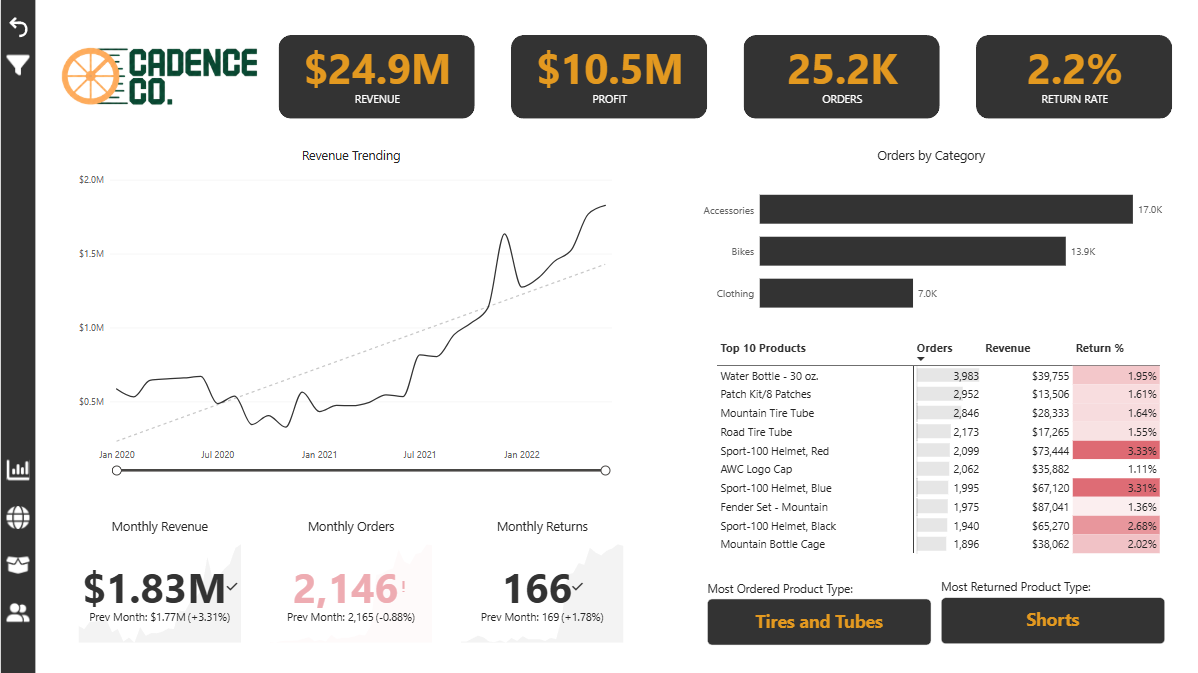

What the dashboard file says about the page in this screenshot:
{"tool":"powerbi","page":{"name":"Exec Dashboard","canvas":[1920,1080],"ordinal":0},"visuals":[{"type":"card","fields":{"Values":["Measure Table.Total Revenue"]},"box":[400,42,404,150],"z":0,"group":"g2"},{"type":"image","box":[85.1,52.5,336.6,143],"z":0},{"type":"group","id":"g1","title":"KPI Backgrounds","box":[444,56,1430,134],"z":0,"group":"g3"},{"type":"shape","box":[1188,56,314,134],"z":0,"group":"g1"},{"type":"actionButton","box":[0,723.9,54.3,56.1],"z":0,"group":"g4"},{"type":"shape","title":"Left Nav Background","box":[0,0,55,1080],"z":1000},{"type":"group","id":"g2","title":"KPI Values","box":[400,42,1520,150],"z":1000,"group":"g3"},{"type":"card","fields":{"Values":["Measure Table.Total Profit"]},"box":[772,42,404,150],"z":1000,"group":"g2"},{"type":"shape","box":[816,56,314,134],"z":1000,"group":"g1"},{"type":"actionButton","box":[0,799.9,54.3,56.1],"z":1000,"group":"g4"},{"type":"card","fields":{"Values":["Measure Table.Total Orders"]},"box":[1144,42,404,150],"z":2000,"group":"g2"},{"type":"shape","box":[1560,56,314,134],"z":2000,"group":"g1"},{"type":"actionButton","box":[0,76,54.3,56.1],"z":2000},{"type":"actionButton","box":[0,876,54.3,56.1],"z":2000,"group":"g4"},{"type":"group","id":"g3","title":"KPIs","box":[400,42,1520,150],"z":3000},{"type":"card","fields":{"Values":["Measure Table.Return Rate"]},"box":[1516,42,404,150],"z":3000,"group":"g2"},{"type":"shape","box":[444,56,314,134],"z":3000,"group":"g1"},{"type":"actionButton","box":[0,952,54,56],"z":3000,"group":"g4"},{"type":"lineChart","title":"Revenue Trending","fields":{"Category":["Calendar Lookup.Year","Calendar Lookup.Start of Quarter","Calendar Lookup.Start of Month"],"Y":["Measure Table.Total Revenue"]},"box":[108,220,904,554],"z":4000},{"type":"kpi","title":"Monthly Revenue","fields":{"Goal":["Measure Table.Previous Month Revenue"],"Indicator":["Measure Table.Total Revenue"],"TrendLine":["Calendar Lookup.Start of Month"]},"box":[108,814,292,230],"z":5000},{"type":"kpi","title":"Monthly Orders","fields":{"Goal":["Measure Table.Previous Month Orders"],"Indicator":["Measure Table.Total Orders"],"TrendLine":["Calendar Lookup.Start of Month"]},"box":[414,814,292,230],"z":6000},{"type":"kpi","title":"Monthly Returns","fields":{"Goal":["Measure Table.Previous Month Returns"],"Indicator":["Measure Table.Total Returns"],"TrendLine":["Calendar Lookup.Start of Month"]},"box":[720,814,292,230],"z":7000},{"type":"clusteredBarChart","title":"Orders by Category","fields":{"Category":["Product Categories Lookup.CategoryName"],"Y":["Measure Table.Total Orders"]},"box":[1102,220,772,318],"z":8000},{"type":"pivotTable","fields":{"Rows":["Product Lookup.ProductName"],"Values":["Measure Table.Total Orders","Measure Table.Total Revenue","Measure Table.Return Rate"]},"box":[1130,526,744,380],"z":9000},{"type":"card","fields":{"Values":["Min(Product Subcategories Lookup.SubcategoryName)"]},"box":[1130,958,358,74],"z":10000},{"type":"textbox","box":[1130,928.3,326.7,46.7],"z":11000},{"type":"card","fields":{"Values":["Min(Product Subcategories Lookup.SubcategoryName)"]},"box":[1504,956,358,74],"z":12000},{"type":"textbox","box":[1504,926.3,326.7,46.7],"z":13000},{"type":"actionButton","box":[0,22,56,40],"z":14000},{"type":"group","id":"g4","title":"Navigation Buttons","box":[0,723.9,54.3,284.1],"z":15000}]}

Visuals, with their boxes on the page's 1920x1080 design canvas (x1, y1, x2, y2). These are canvas units, not pixel positions in the 1198x673 screenshot, which may show the page scaled, cropped or inside an application window:
card - Measure Table.Total Revenue: left=400, top=42, right=804, bottom=192
image: left=85, top=52, right=422, bottom=196
"KPI Backgrounds" group: left=444, top=56, right=1874, bottom=190
shape: left=1188, top=56, right=1502, bottom=190
actionButton: left=0, top=724, right=54, bottom=780
"Left Nav Background" shape: left=0, top=0, right=55, bottom=1080
"KPI Values" group: left=400, top=42, right=1920, bottom=192
card - Measure Table.Total Profit: left=772, top=42, right=1176, bottom=192
shape: left=816, top=56, right=1130, bottom=190
actionButton: left=0, top=800, right=54, bottom=856
card - Measure Table.Total Orders: left=1144, top=42, right=1548, bottom=192
shape: left=1560, top=56, right=1874, bottom=190
actionButton: left=0, top=76, right=54, bottom=132
actionButton: left=0, top=876, right=54, bottom=932
"KPIs" group: left=400, top=42, right=1920, bottom=192
card - Measure Table.Return Rate: left=1516, top=42, right=1920, bottom=192
shape: left=444, top=56, right=758, bottom=190
actionButton: left=0, top=952, right=54, bottom=1008
"Revenue Trending" lineChart: left=108, top=220, right=1012, bottom=774
"Monthly Revenue" kpi: left=108, top=814, right=400, bottom=1044
"Monthly Orders" kpi: left=414, top=814, right=706, bottom=1044
"Monthly Returns" kpi: left=720, top=814, right=1012, bottom=1044
"Orders by Category" clusteredBarChart: left=1102, top=220, right=1874, bottom=538
pivotTable - Product Lookup.ProductName x Measure Table.Total Orders: left=1130, top=526, right=1874, bottom=906
card - Min(Product Subcategories Lookup.SubcategoryName): left=1130, top=958, right=1488, bottom=1032
textbox: left=1130, top=928, right=1457, bottom=975
card - Min(Product Subcategories Lookup.SubcategoryName): left=1504, top=956, right=1862, bottom=1030
textbox: left=1504, top=926, right=1831, bottom=973
actionButton: left=0, top=22, right=56, bottom=62
"Navigation Buttons" group: left=0, top=724, right=54, bottom=1008
